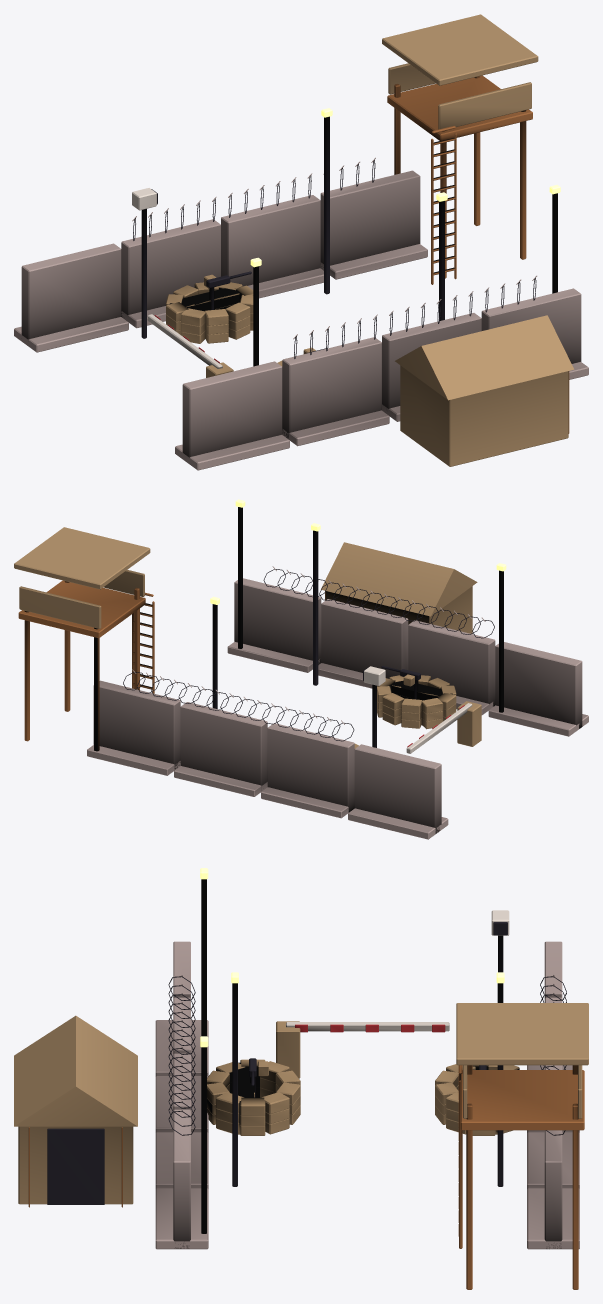
3 views of the same model, one above another, from view 1: azimuth 30°, elevation 25°; view 2: azimuth 150°, elevation 25°; view 3: azimuth 270°, elevation 25° (orthographic). The views are drawn at different scales.
Visible parts, largest first — view 1: body_pal_sidewalk, body_pal_khaki, body_pal_woodWarm, body_pal_uiDark, gateArm_pal_picketWhite; view 2: body_pal_sidewalk, body_pal_khaki, body_pal_woodWarm, body_pal_uiDark, gateArm_pal_picketWhite; view 3: body_pal_khaki, body_pal_sidewalk, body_pal_uiDark, body_pal_woodWarm, gateArm_pal_picketWhite, gateArm_pal_survivorRed.
Boxes of the visible parts, x1,y1,x2,y2 form: body_pal_sidewalk: [14, 157, 588, 470]; body_pal_khaki: [166, 14, 574, 466]; body_pal_woodWarm: [387, 75, 569, 433]; body_pal_uiDark: [133, 116, 557, 366]; gateArm_pal_picketWhite: [147, 314, 222, 368]; body_pal_sidewalk: [87, 566, 588, 839]; body_pal_khaki: [14, 527, 481, 748]; body_pal_woodWarm: [18, 580, 325, 751]; body_pal_uiDark: [123, 507, 503, 747]; gateArm_pal_picketWhite: [406, 703, 472, 753]; body_pal_khaki: [14, 1003, 588, 1204]; body_pal_sidewalk: [155, 941, 579, 1249]; body_pal_uiDark: [47, 879, 566, 1233]; body_pal_woodWarm: [28, 1065, 584, 1289]; gateArm_pal_picketWhite: [286, 1022, 449, 1031]; gateArm_pal_survivorRed: [295, 1024, 445, 1032].
Bounding box in the file's own units: 14.2 × 5.89 × 13.
